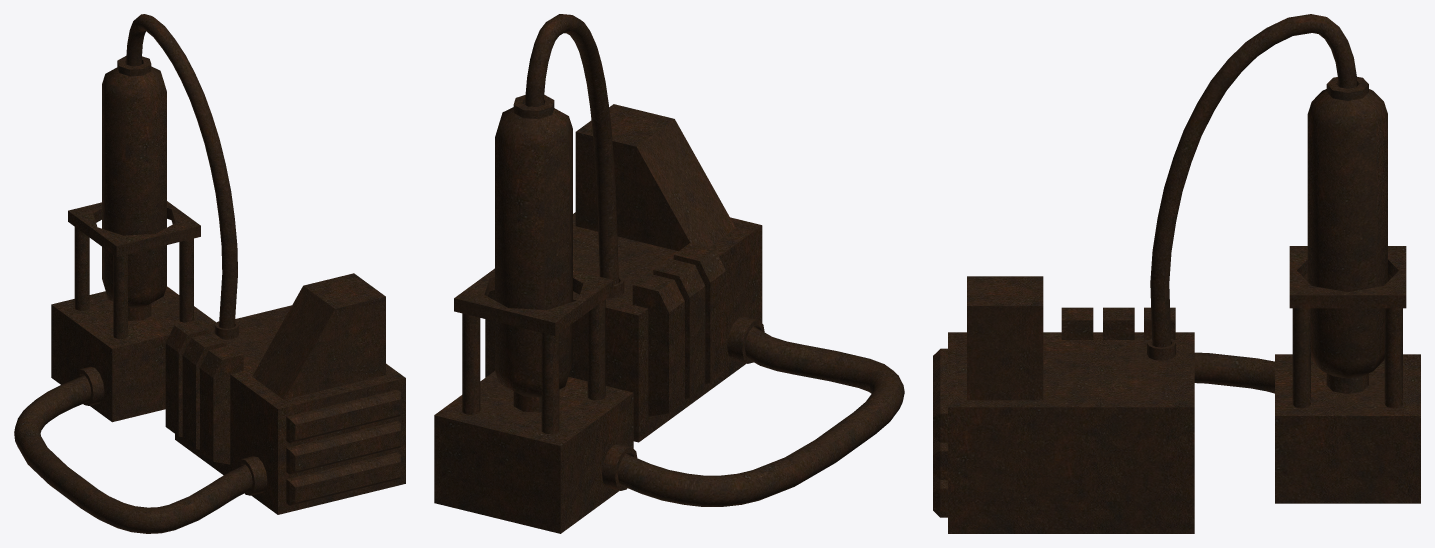
The model's file is test_machine_mx_1.obj.
The picture shows the model from 3 angles, left to right: view 1: azimuth 30°, elevation 25°; view 2: azimuth 150°, elevation 25°; view 3: azimuth 270°, elevation 25°; orthographic projection. The views are drawn at different scales.
Parts seen in each view (by area): view 1: test_machine_mx_1; view 2: test_machine_mx_1; view 3: test_machine_mx_1.
Part boxes in pixels (bbox=[...]): test_machine_mx_1: bbox=[14, 14, 405, 533]; test_machine_mx_1: bbox=[434, 14, 904, 533]; test_machine_mx_1: bbox=[933, 14, 1420, 533].
Bounding box in the file's own units: 2.66 × 3.52 × 3.4.
